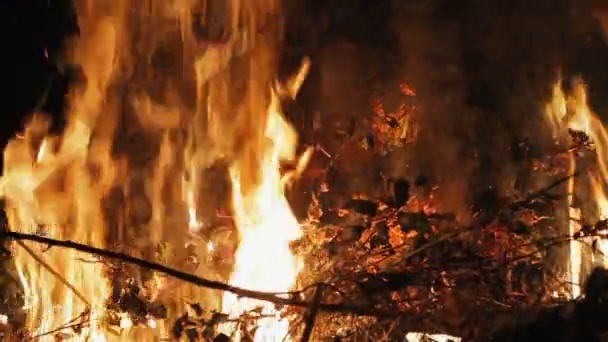fire: (1, 20, 306, 342), (544, 76, 608, 298), (404, 331, 460, 342)
